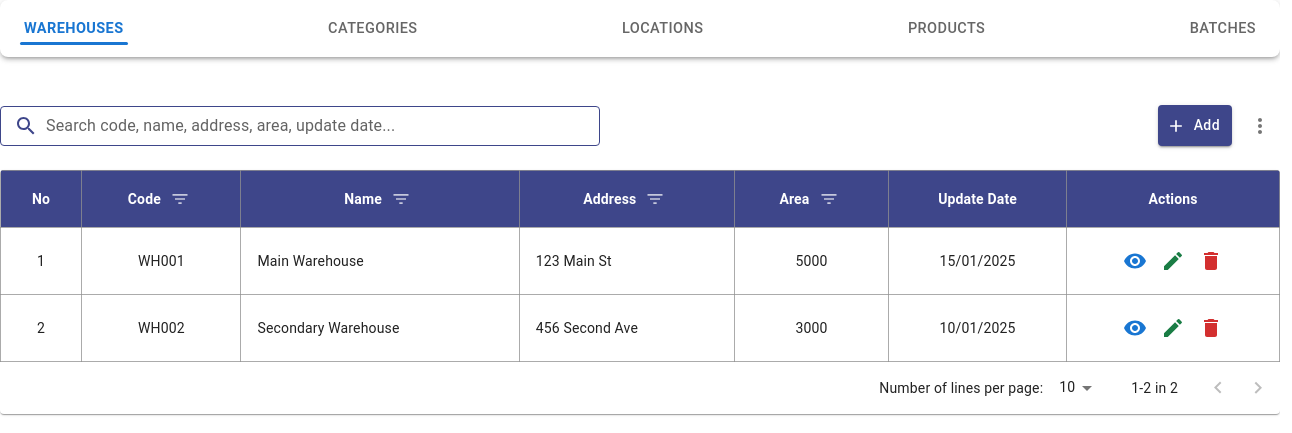
Test: Warehouse Page - Integration Tests › Happy Path - Menu Navigation › switches to batches menu and displays batches
This screenshot has width=1292, height=433.
Click the button "Batches": click(1223, 29) [1174, 8, 1272, 49]
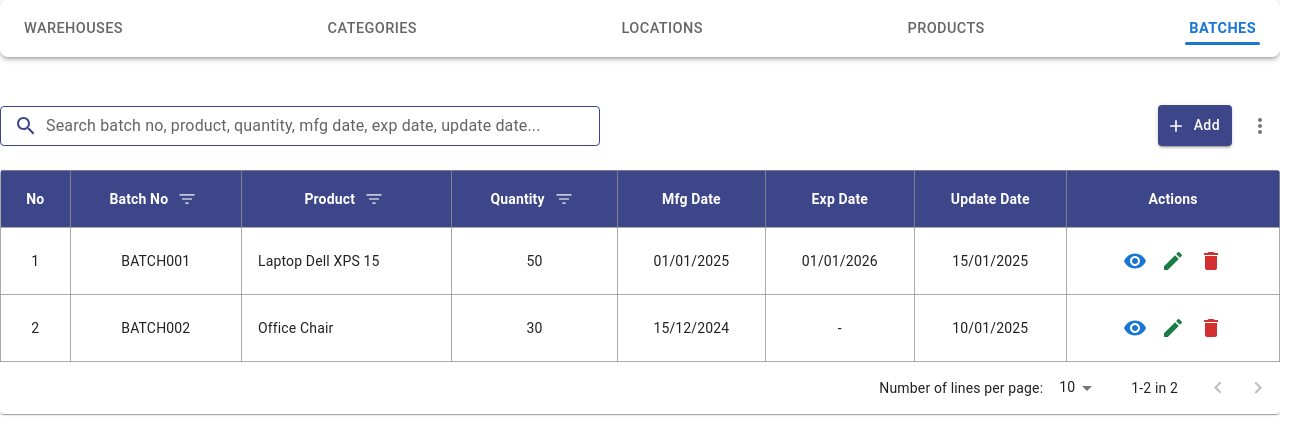
Check: the text "BATCH001" is shown, box [70, 227, 242, 294]
Check: the text "BATCH002" is shown, box [70, 294, 242, 361]
